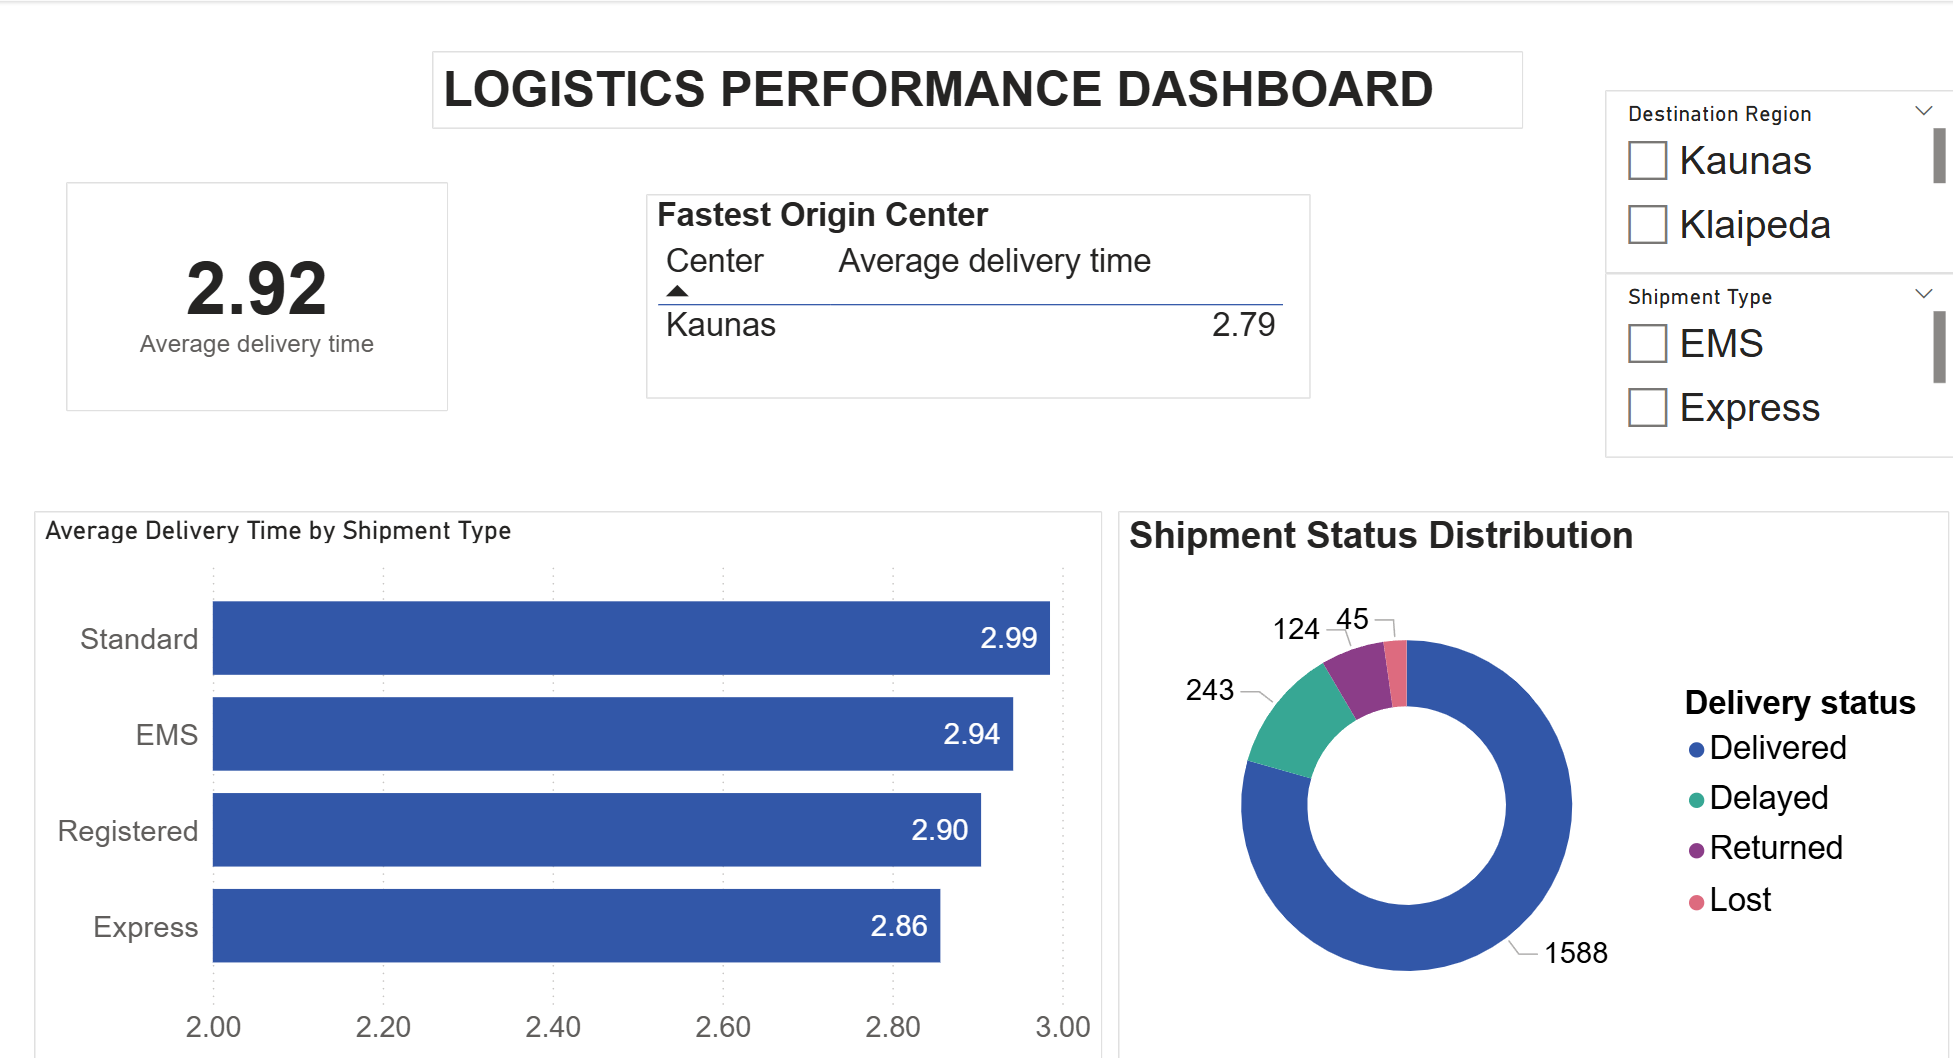

This screenshot's page, from the dashboard's own definition file:
{"tool":"powerbi","page":{"name":"Executive Overview","canvas":[1280,720],"ordinal":0},"visuals":[{"type":"card","title":"Average delivery time","fields":{"Values":["Avg(shipments.delivery_time)"]},"box":[43.2,118.4,250,149.9],"z":0},{"type":"donutChart","title":"Shipment Status Distribution","fields":{"Category":["shipments.delivery_status"],"Y":["CountNonNull(shipments.shipment_id)"]},"box":[731.6,333.7,543.8,358.6],"z":1000},{"type":"clusteredBarChart","title":"Average Delivery Time by Shipment Type","fields":{"Category":["shipments.shipment_type"],"Y":["Avg(shipments.delivery_time)"]},"box":[22.2,333.7,698.9,358.6],"z":2000},{"type":"tableEx","title":"Fastest Origin Center","fields":{"Values":["shipments.origin_center","Avg(shipments.delivery_time)"]},"box":[422.7,126.3,434.5,134.2],"z":3000},{"type":"slicer","fields":{"Values":["shipments.destination_region"]},"box":[1050.3,58.2,229.7,119.8],"z":4000},{"type":"slicer","fields":{"Values":["shipments.shipment_type"]},"box":[1050.3,178,229.7,121.1],"z":5000},{"type":"textbox","box":[282.7,32.7,713.9,51],"z":6000}]}

Visuals, with their boxes on the page's 1280x720 design canvas (x1, y1, x2, y2). These are canvas units, not pixel positions in the 1953x1058 screenshot, which may show the page scaled, cropped or inside an application window:
"Average delivery time" card: 43/118/293/268
"Shipment Status Distribution" donutChart: 732/334/1275/692
"Average Delivery Time by Shipment Type" clusteredBarChart: 22/334/721/692
"Fastest Origin Center" tableEx: 423/126/857/260
slicer - shipments.destination_region: 1050/58/1280/178
slicer - shipments.shipment_type: 1050/178/1280/299
textbox: 283/33/997/84
